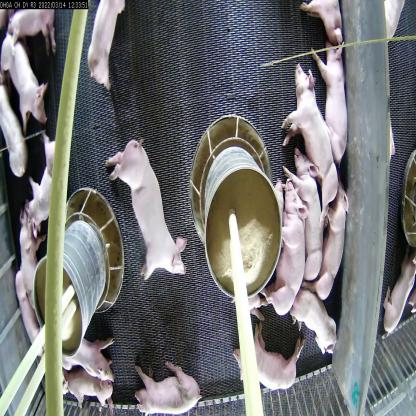Pig: (110, 125, 192, 290), (231, 306, 313, 388), (286, 65, 342, 182), (286, 148, 332, 283), (264, 163, 304, 316), (81, 0, 136, 106), (283, 279, 338, 372), (320, 26, 353, 167), (314, 171, 350, 300), (127, 357, 204, 415), (6, 30, 46, 122), (30, 142, 68, 225), (2, 86, 32, 187), (62, 361, 114, 416), (63, 319, 112, 371)
